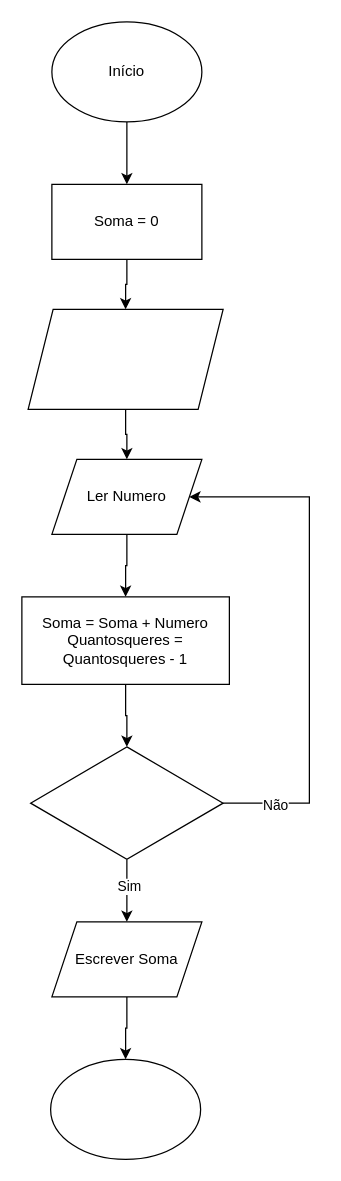
This 341x1181 diagram has some shape labels left out. The centre of each missing label's shape, as x and y in pixels:
"Fim" belongs at point (125, 1108).
"Ler Quantosqueres" belongs at point (125, 358).
"Quantosqueres = 0" belongs at point (126, 802).
